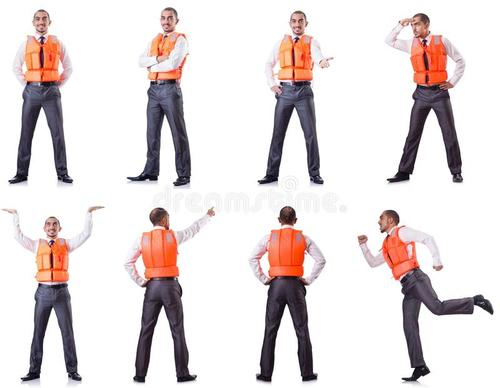reflective_clothes: (269, 30, 320, 98), (403, 30, 452, 94), (265, 224, 309, 287), (379, 223, 422, 287), (144, 26, 188, 88), (140, 227, 181, 289), (32, 232, 74, 291), (21, 30, 62, 85)
